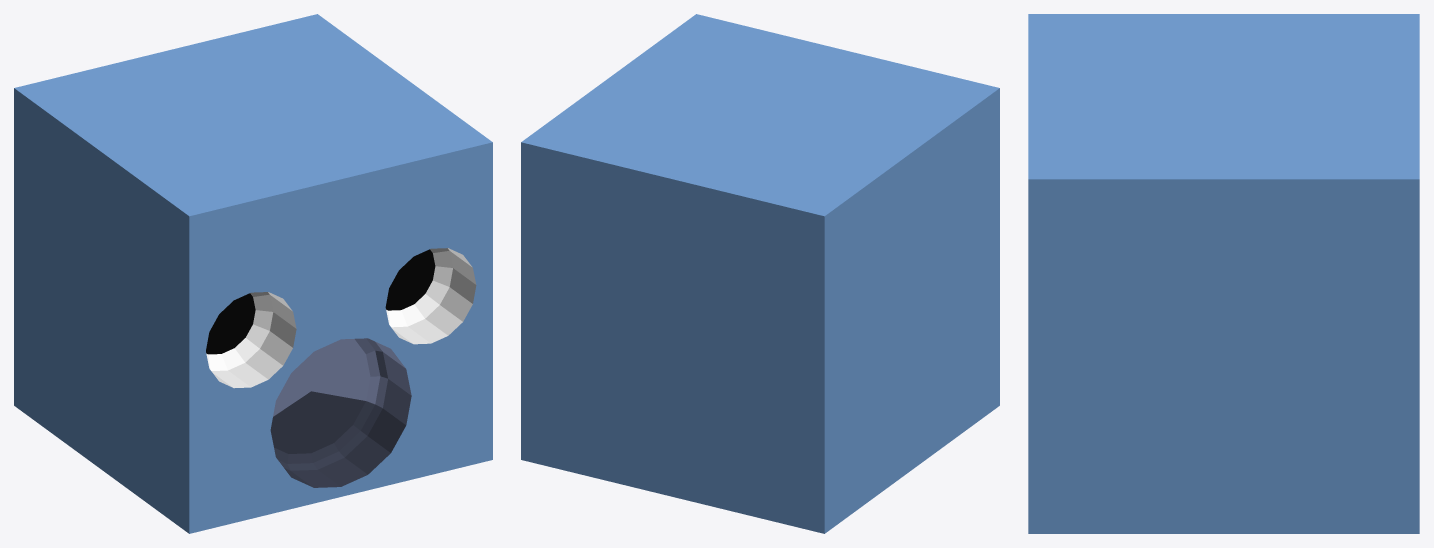
File: blendshapetest2del.fbx
3 renders of one model, left to right at view 1: azimuth 30°, elevation 25°; view 2: azimuth 150°, elevation 25°; view 3: azimuth 270°, elevation 25°, orthographic. The views are drawn at different scales.
Visible parts, largest first — view 1: starblend; view 2: starblend; view 3: starblend.
Boxes of the visible parts, <box> form: starblend: <box>14,14,492,533</box>; starblend: <box>521,14,999,533</box>; starblend: <box>1028,14,1419,533</box>.
Size of the model in its own units: 100 by 100 by 100.
